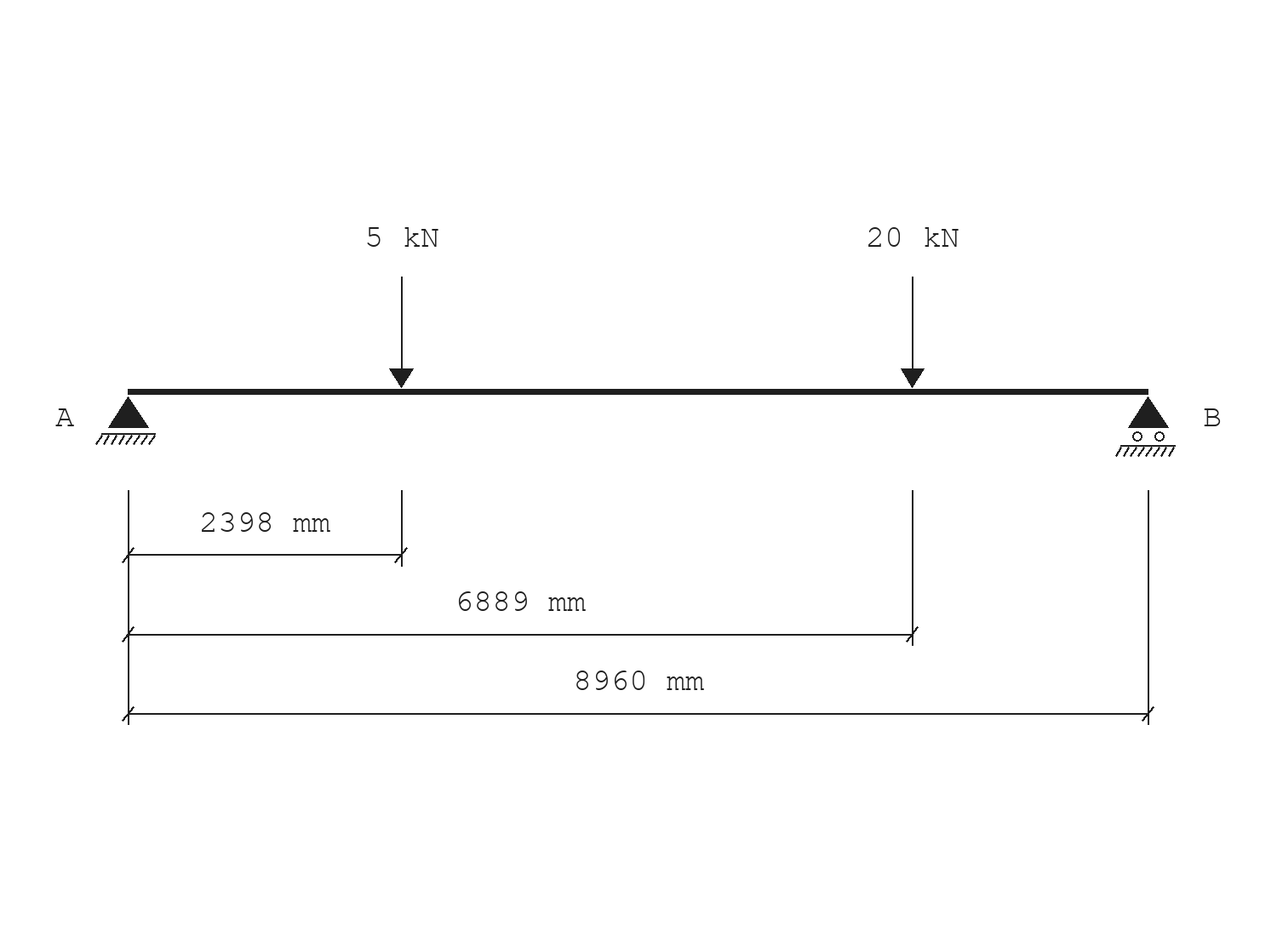pin_support: (95, 397, 156, 445)
point_load: (389, 277, 414, 388), (901, 277, 925, 388)
roller_support: (1115, 397, 1176, 457)
